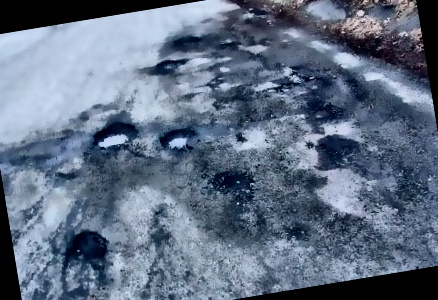pothole: (314, 131, 361, 171), (89, 116, 141, 150), (69, 226, 112, 261), (211, 166, 258, 197), (157, 123, 199, 155), (306, 96, 346, 124), (156, 55, 191, 72), (173, 32, 204, 49), (288, 69, 307, 84), (276, 81, 296, 95)
